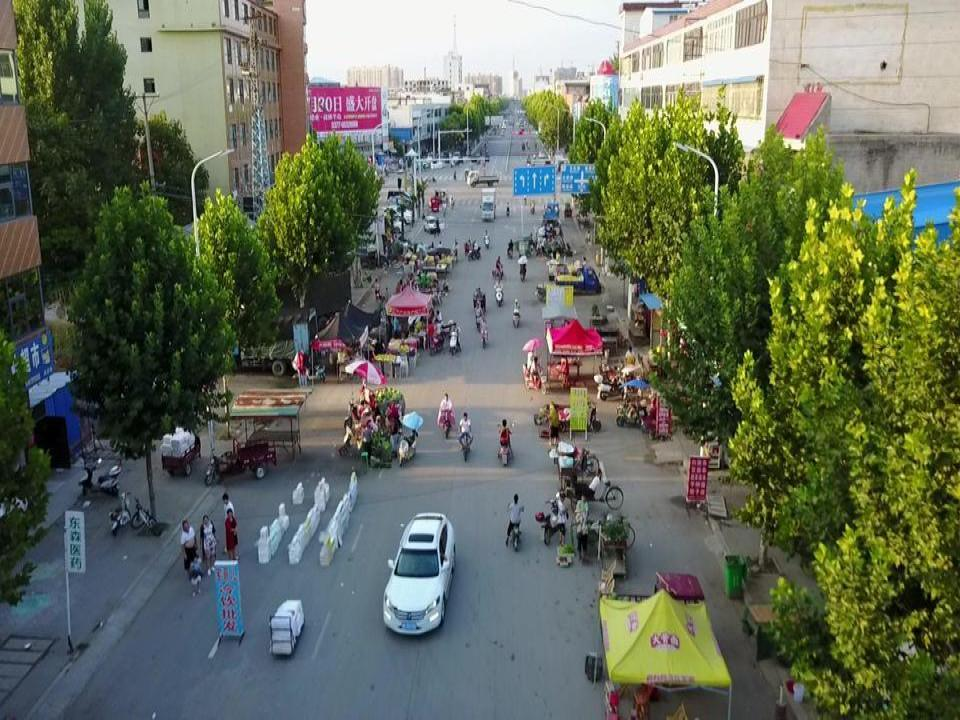car: (385, 512, 454, 636), (424, 216, 440, 233), (537, 149, 546, 159)
truck: (215, 308, 313, 368), (553, 261, 603, 295), (466, 169, 500, 188), (480, 187, 496, 221)
